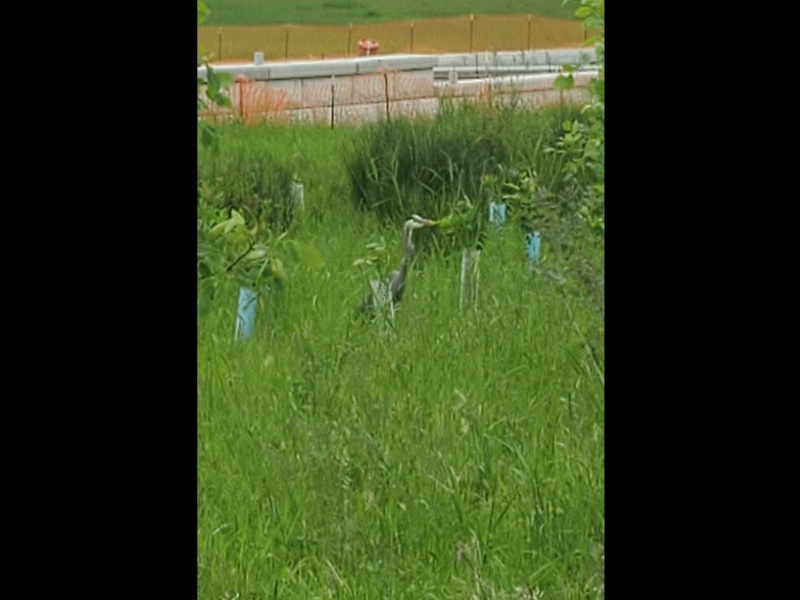heron: (361, 209, 435, 320)
